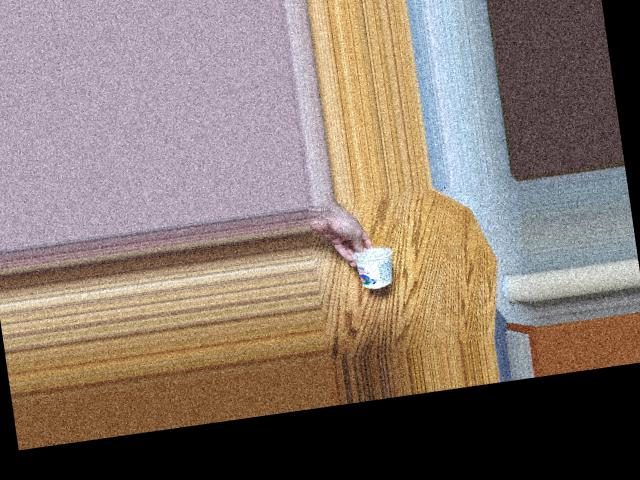cotage: (347, 235, 403, 289)
